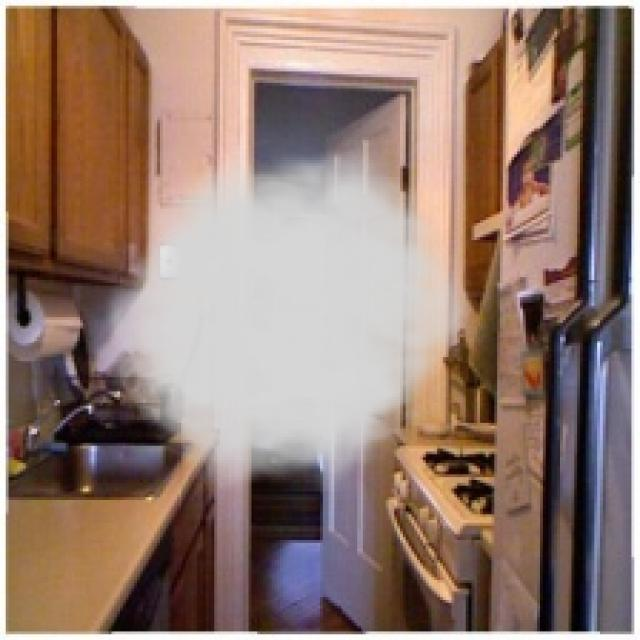Smoke: (88, 134, 483, 492)
